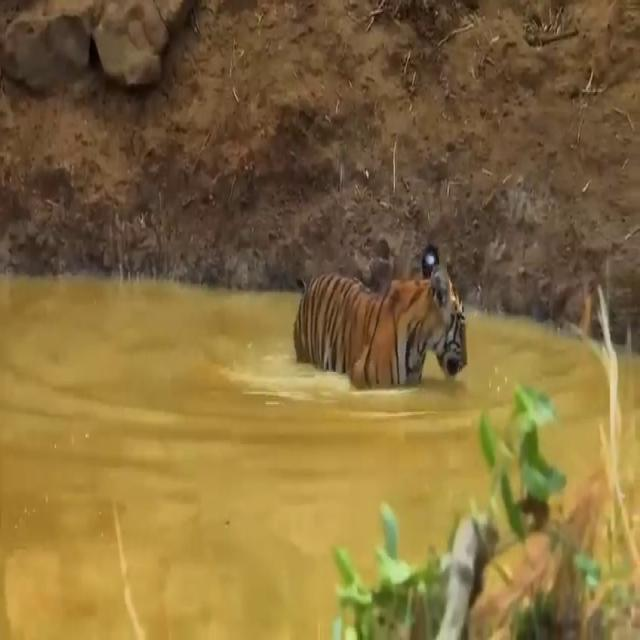tiger: (293, 241, 470, 389)
